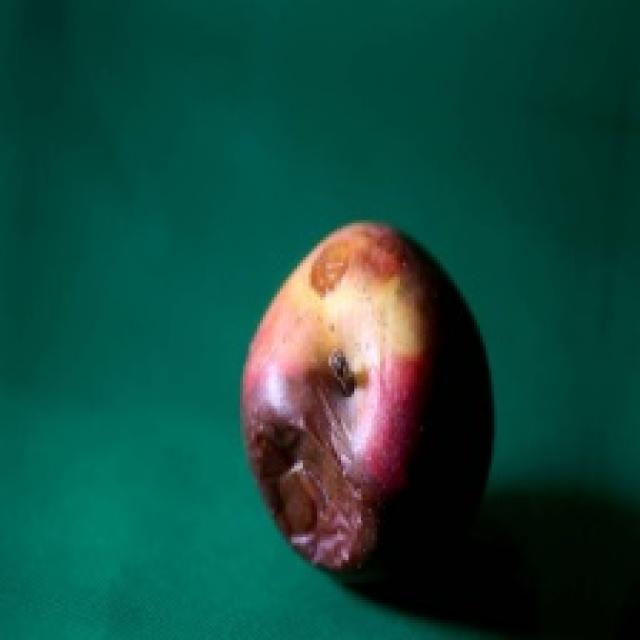rotten_apple: (244, 225, 494, 566)
